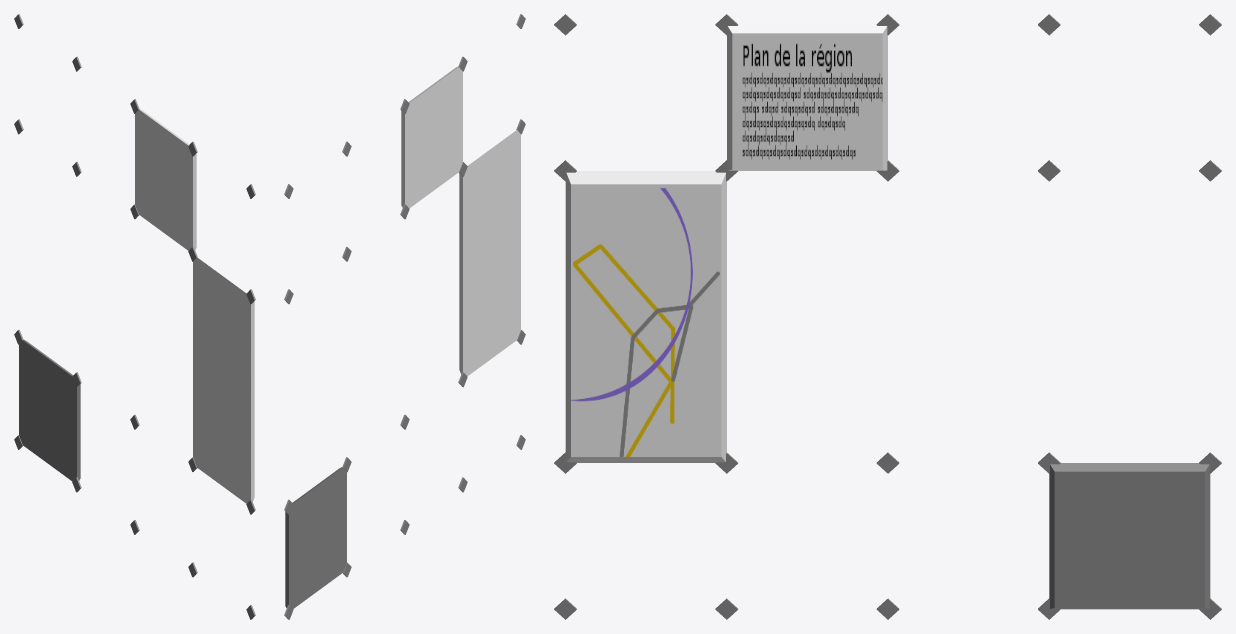
Rendered from murale universelle.fbx.
The picture shows the model from 3 angles, left to right: view 1: azimuth 30°, elevation 25°; view 2: azimuth 150°, elevation 25°; view 3: azimuth 270°, elevation 25°; orthographic projection. The views are drawn at different scales.
Visible parts, largest first — view 1: Cube; view 2: Cube; view 3: Cube.
Part boxes in pixels (x1,y1,x2,y2): Cube: [14, 14, 255, 619]; Cube: [284, 14, 525, 619]; Cube: [554, 14, 1221, 619].
Size of the model in its own units: 24.84 by 1657 by 1657.
